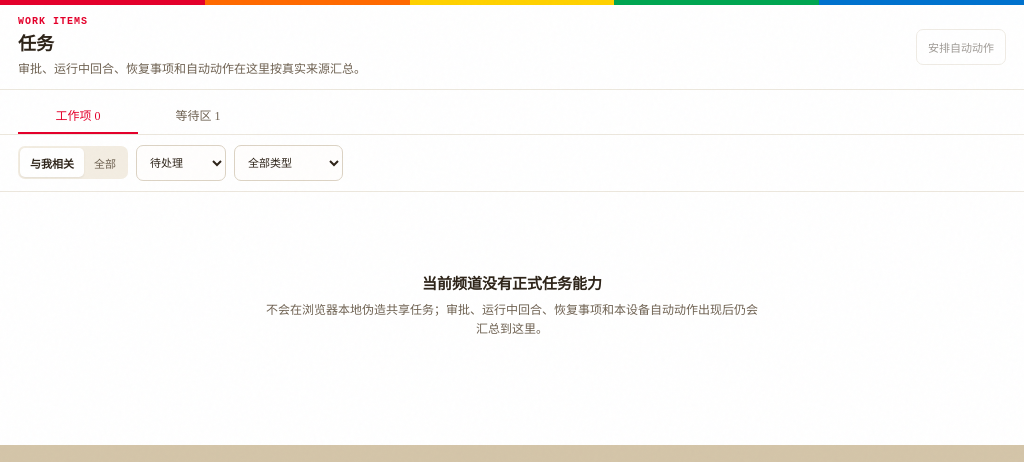
it: TasksFeature waiting target controls › keeps cached waiting facts visible but hides controls until current authority is present
Click the tab "等待区 1" at {"x": 198, "y": 116}, box [138, 98, 258, 134]
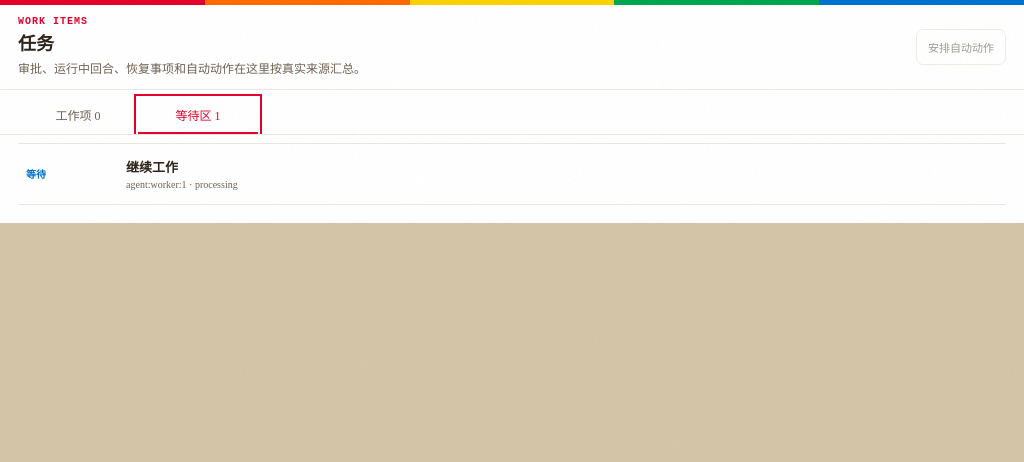
Result: the text "继续工作" is shown at [126, 160, 178, 175]
